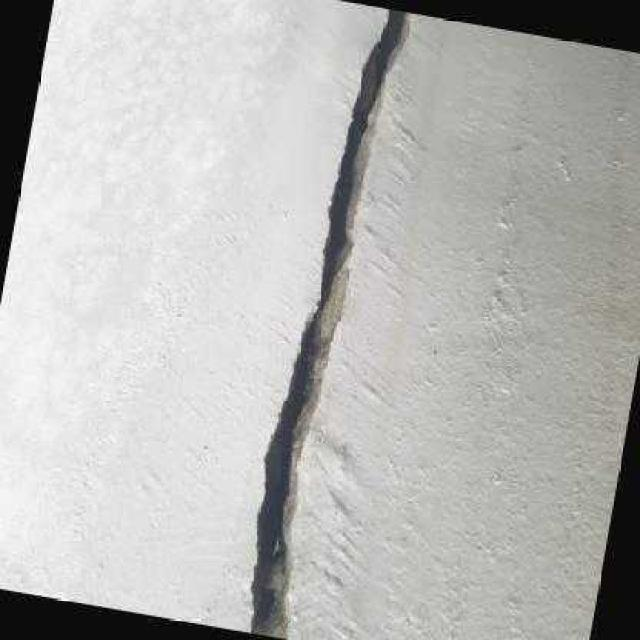D00: (247, 7, 403, 639)
